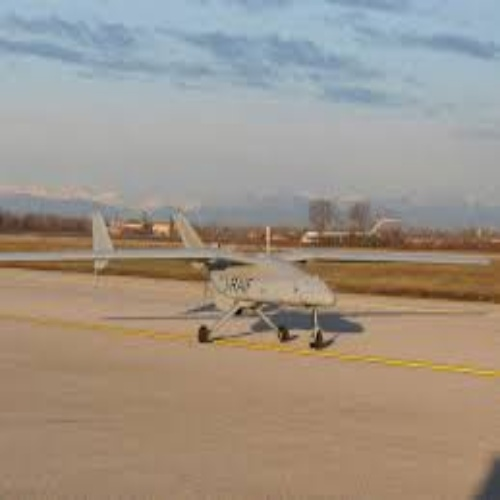uav: (1, 208, 492, 349)
